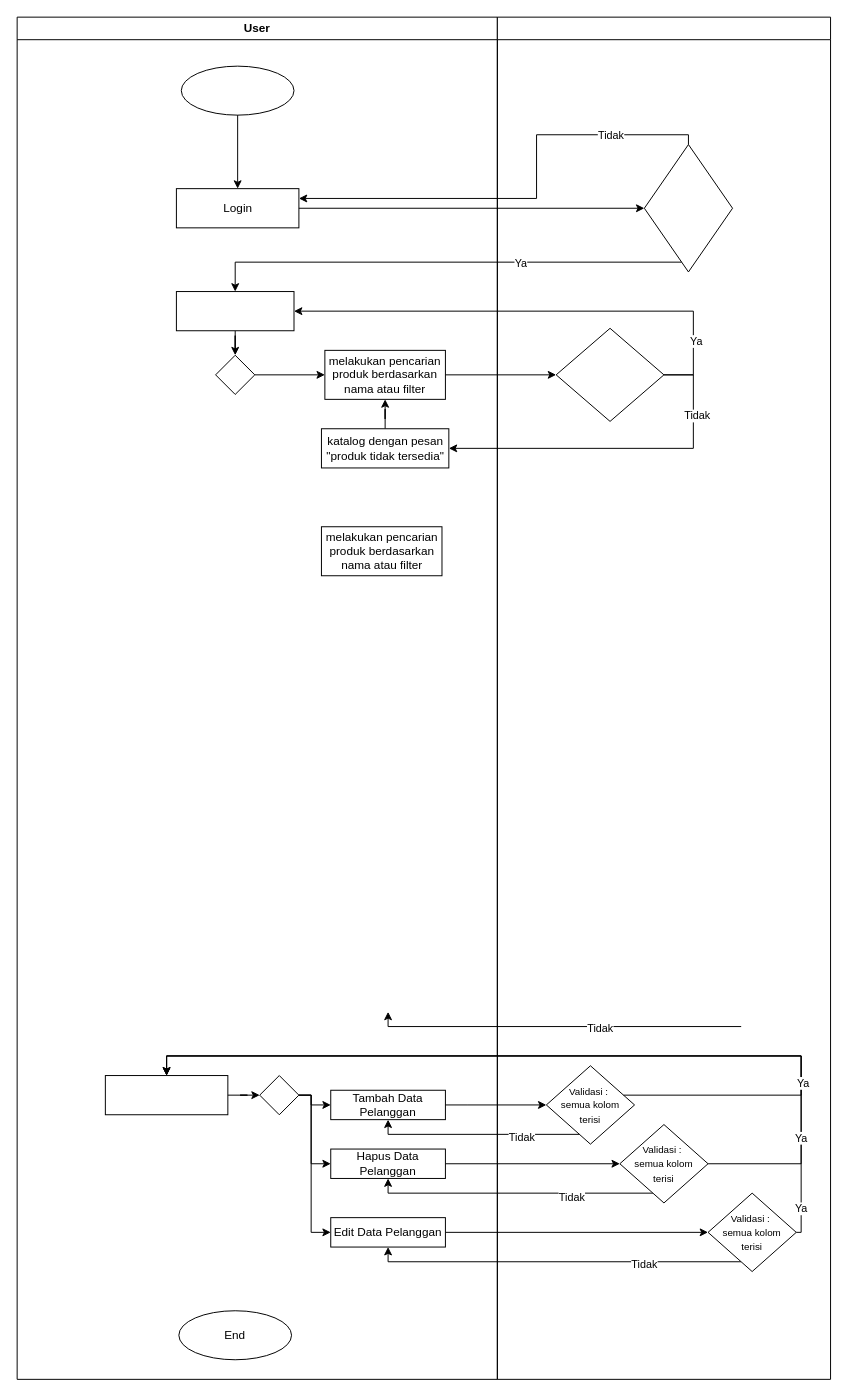
Image size: 848x1397. Some labels were removed from this diagram. Each missing label, with the box of its shape:
Halaman Katalog Produk: (175, 291, 294, 331)
Halaman Pelanggan: (104, 1075, 228, 1115)
Sistem: (496, 16, 831, 1379)
Start: (180, 65, 294, 115)
Validasi : produk yang di cari tersedia atau tidak: (555, 327, 664, 421)
Validasi No Hp dan password: (643, 144, 733, 272)
